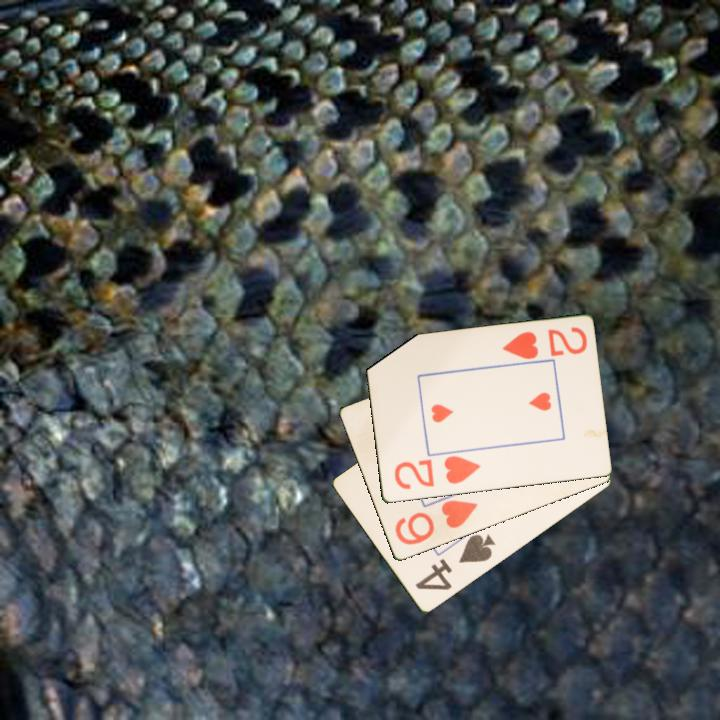2h: (391, 452, 483, 493), (498, 324, 590, 363)
4s: (412, 531, 498, 594)
6h: (391, 497, 481, 548)
